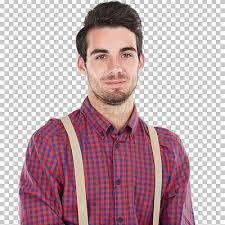person: (72, 1, 151, 104)
